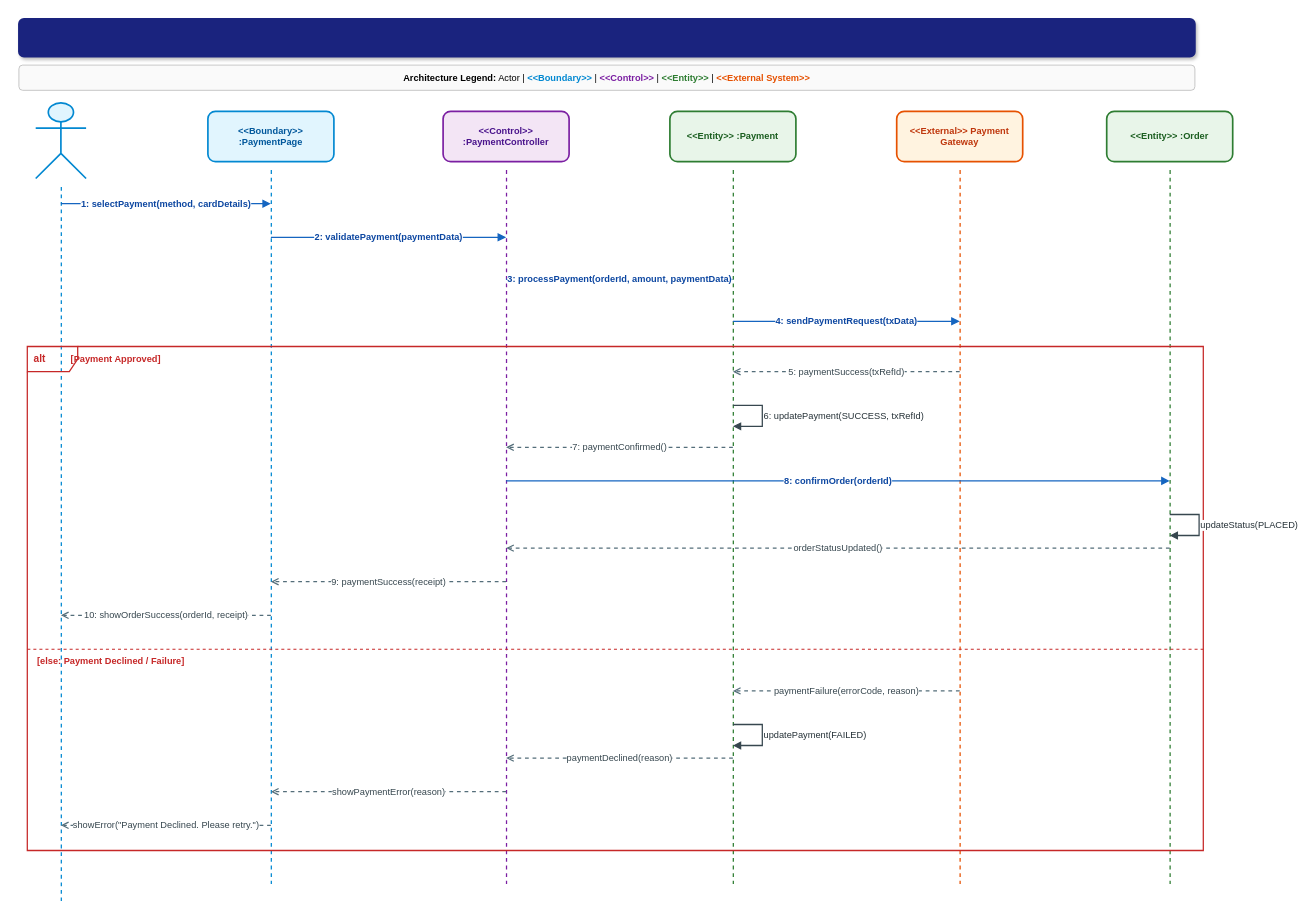
The diagram is 1312 pixels wide and 916 high, and some of its shapes have lost their labels. The centre of each missing label's shape, as x and y in pixels:
Customer: point 60,140
ONLINE FOOD ORDERING SYSTEM — PAYMENT PROCESSING SEQUENCE DIAGRAM: point 607,38
